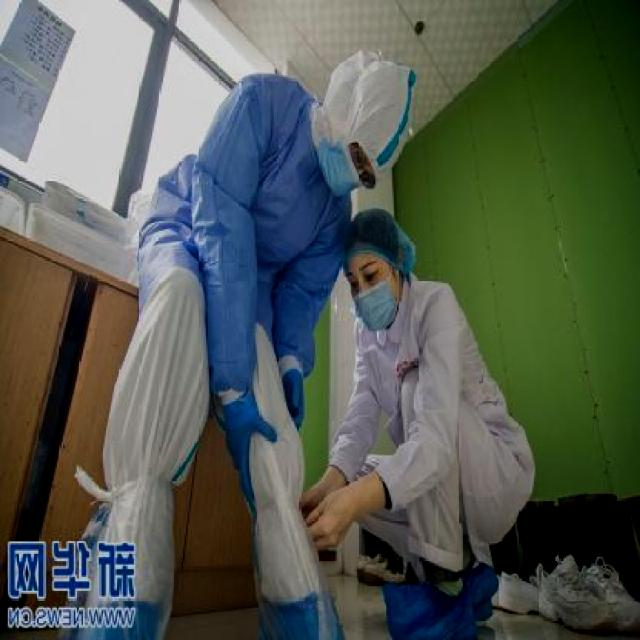face_mask: (318, 144, 388, 196), (352, 258, 397, 332)
hand_glove: (308, 209, 543, 629), (220, 396, 275, 516), (283, 371, 308, 429)
hand_noglove: (306, 483, 354, 554), (300, 471, 345, 518)
head_nohelmet: (347, 63, 425, 160), (339, 203, 410, 265)
person: (69, 55, 418, 640)
